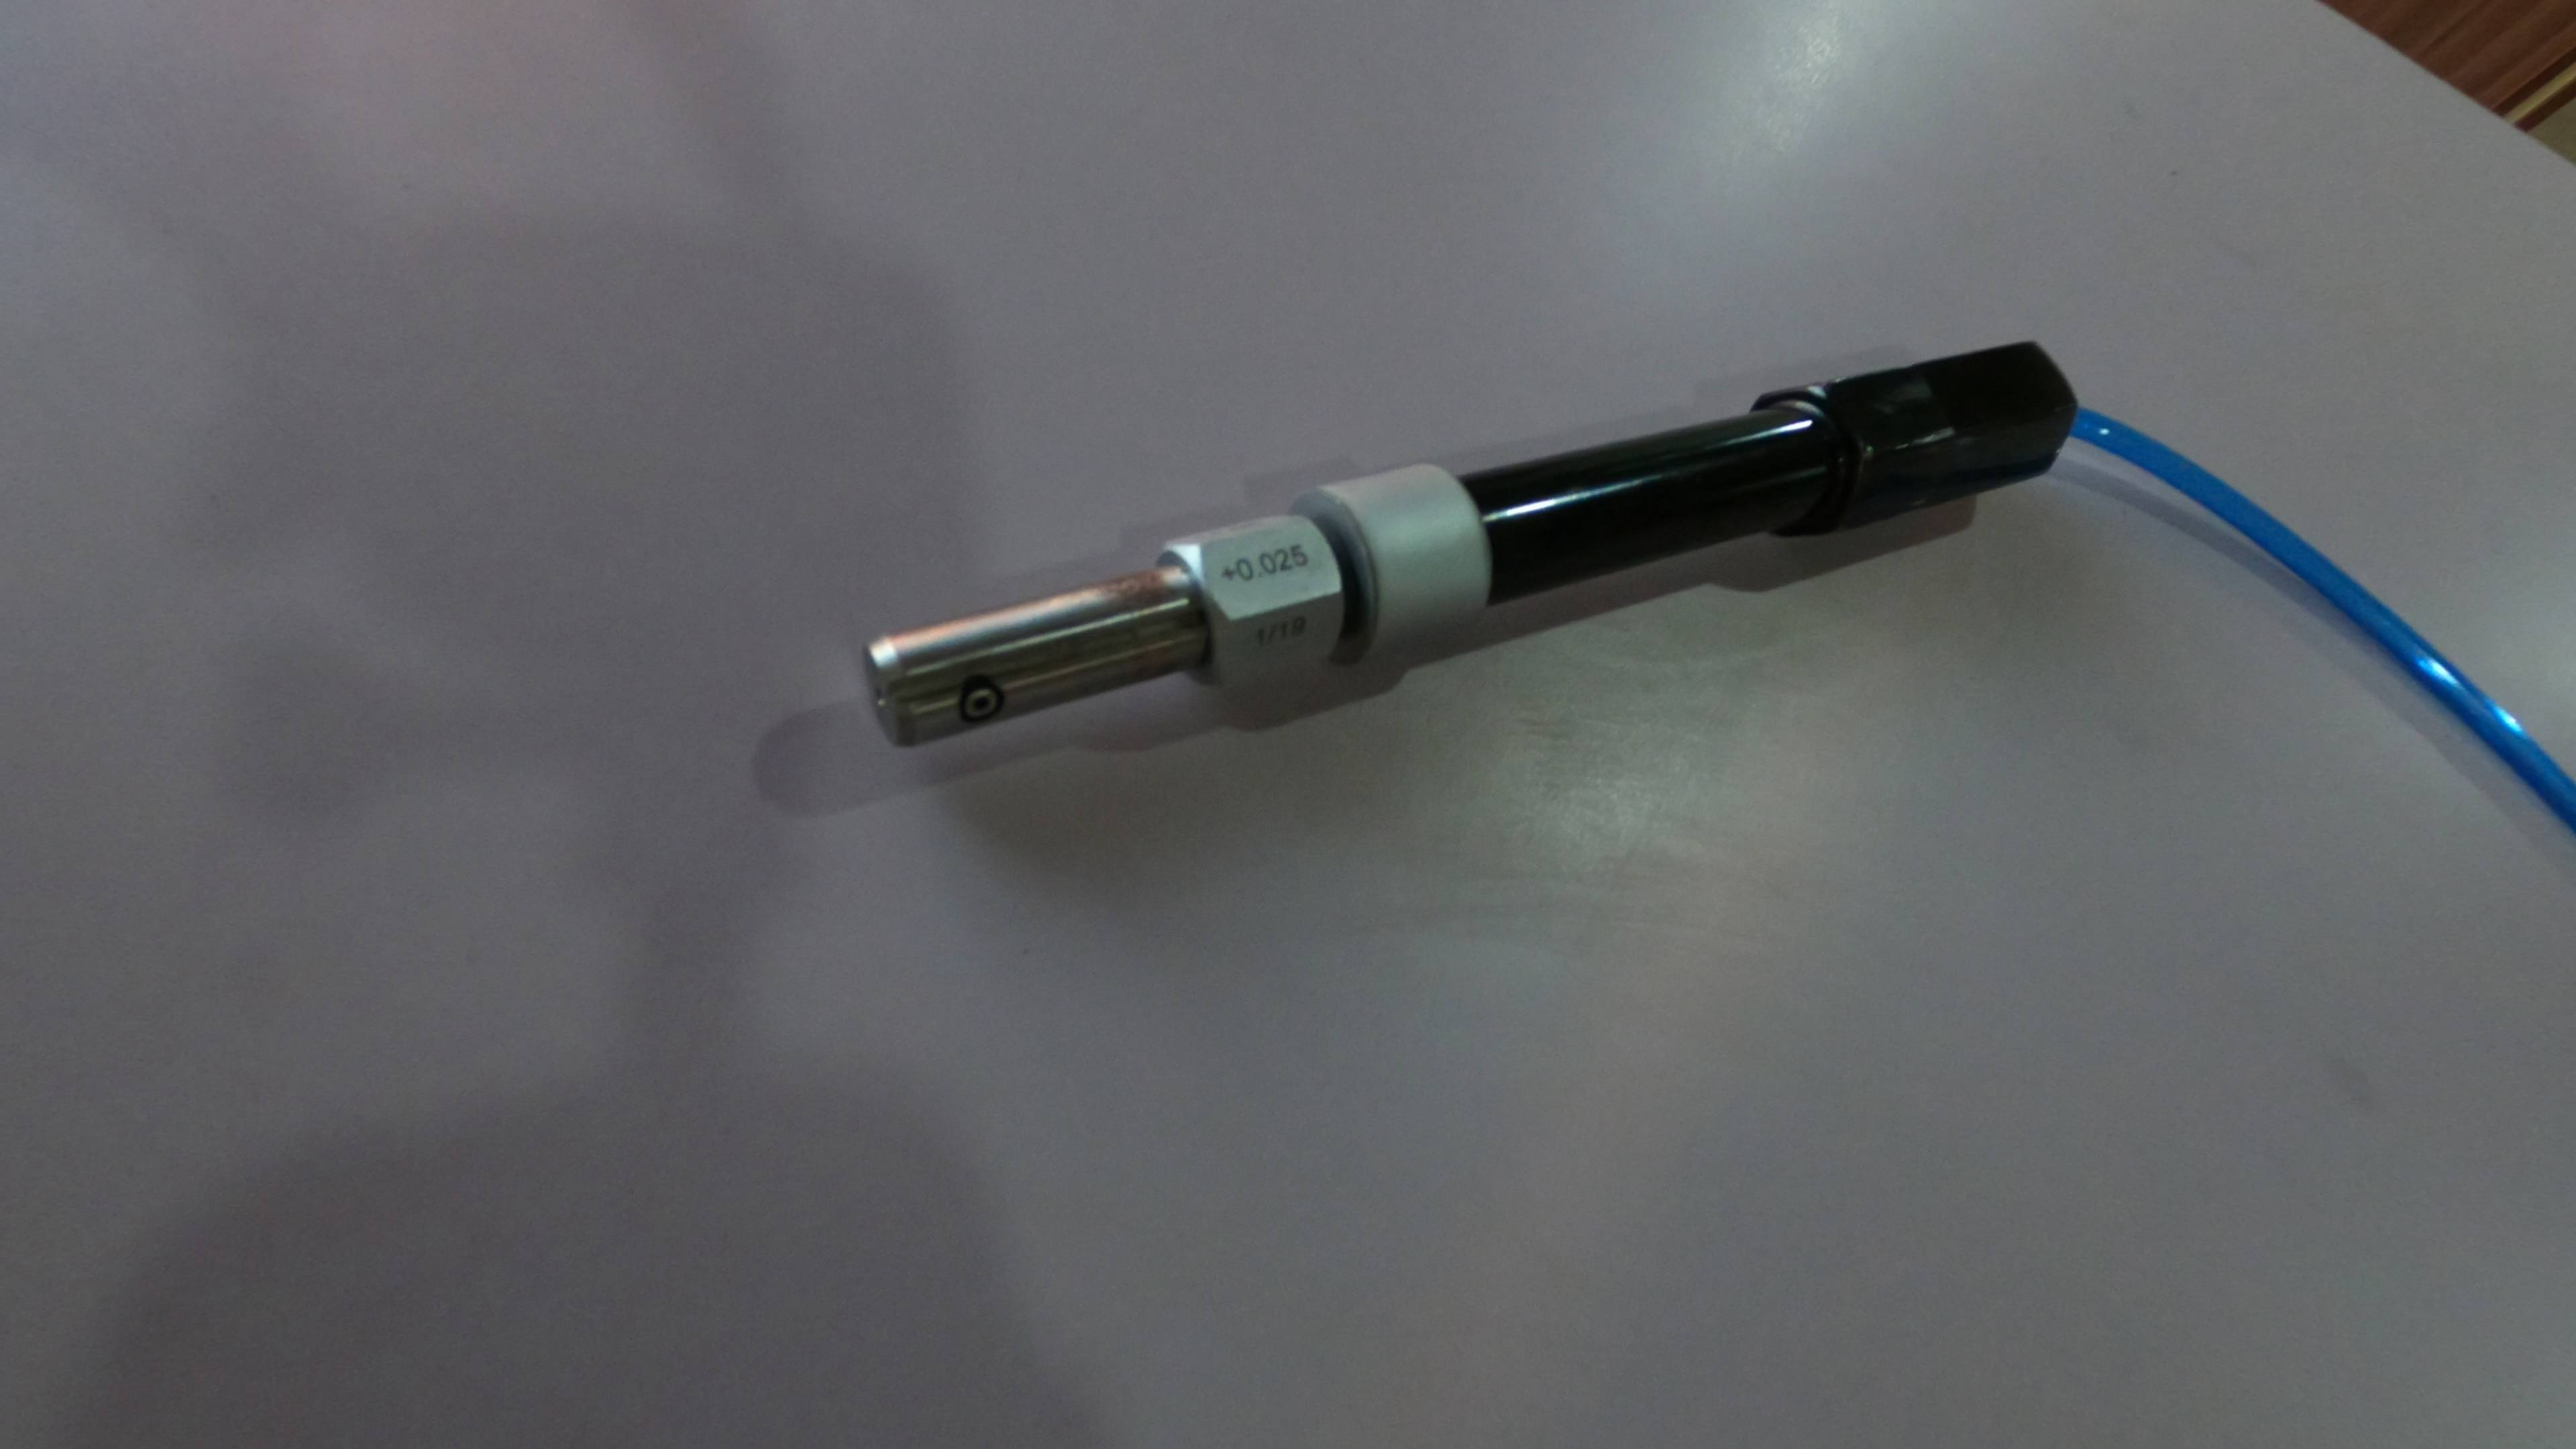air_gauge: (865, 336, 2086, 828)
